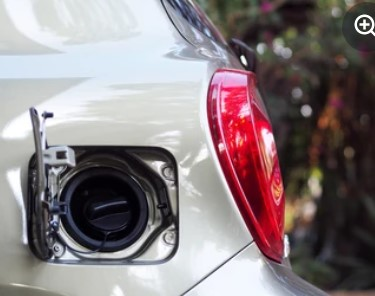open: (22, 136, 187, 271)
